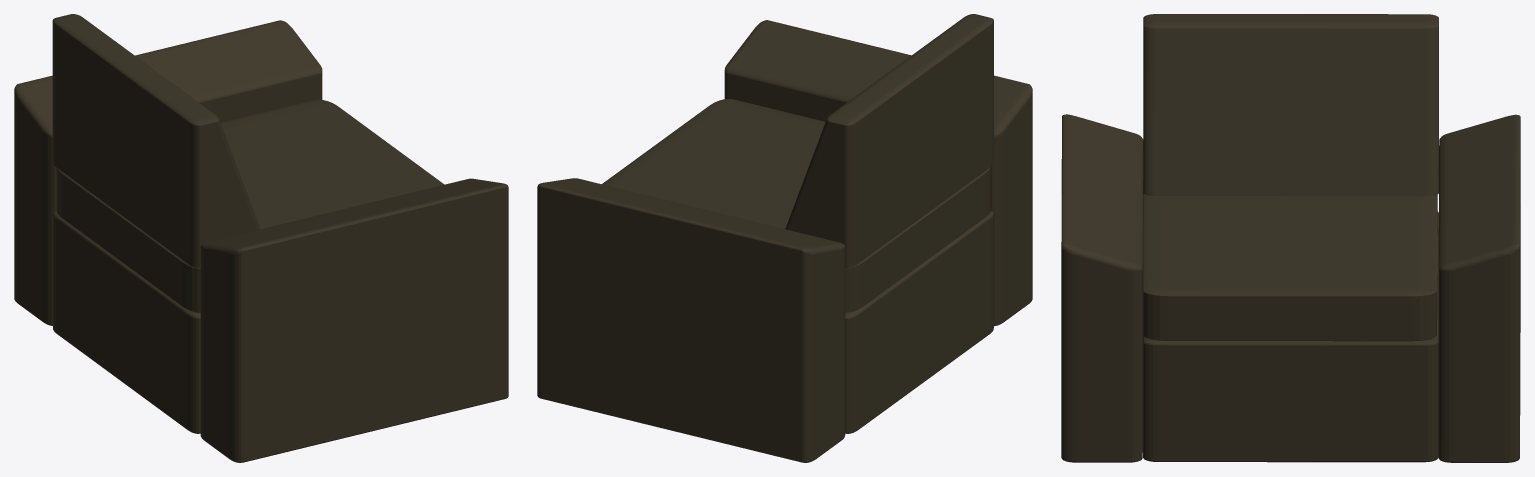
Rendered from martillo.gltf.
3 views of the same model, side by side, from view 1: azimuth 30°, elevation 25°; view 2: azimuth 150°, elevation 25°; view 3: azimuth 270°, elevation 25° (orthographic).
Visible parts, largest first — view 1: SILLON-S_Cube.023; view 2: SILLON-S_Cube.023; view 3: SILLON-S_Cube.023.
Part boxes in pixels (x1,y1,x2,y2): SILLON-S_Cube.023: (14,14,508,462); SILLON-S_Cube.023: (537,14,1032,462); SILLON-S_Cube.023: (1061,14,1520,462).
Size of the model in its own units: 0.7495 by 0.8052 by 1.06.
